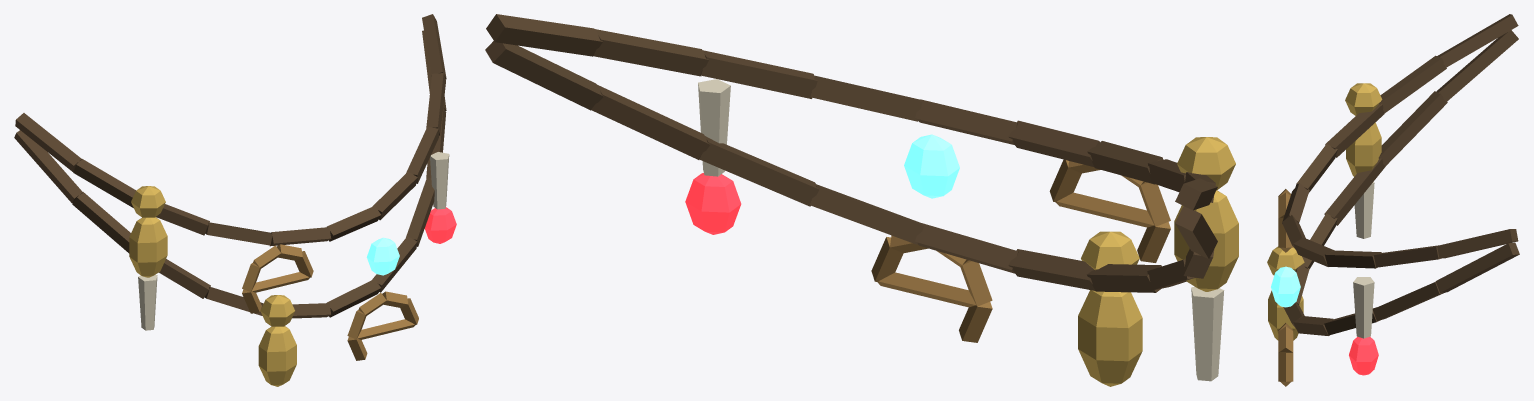
Rendered from relic_scavenger_trinkets.glb.
3 views of the same model, side by side, from view 1: azimuth 30°, elevation 25°; view 2: azimuth 150°, elevation 25°; view 3: azimuth 270°, elevation 25° (orthographic). The views are drawn at different scales.
Visible parts, largest first — view 1: relic_scavenger_trinkets; view 2: relic_scavenger_trinkets; view 3: relic_scavenger_trinkets.
Boxes of the visible parts, x1,y1,x2,y2 form: relic_scavenger_trinkets: (14, 14, 456, 386); relic_scavenger_trinkets: (485, 14, 1238, 386); relic_scavenger_trinkets: (1267, 14, 1519, 386).
Bounding box in the file's own units: 0.6974 × 0.3685 × 0.3359.
